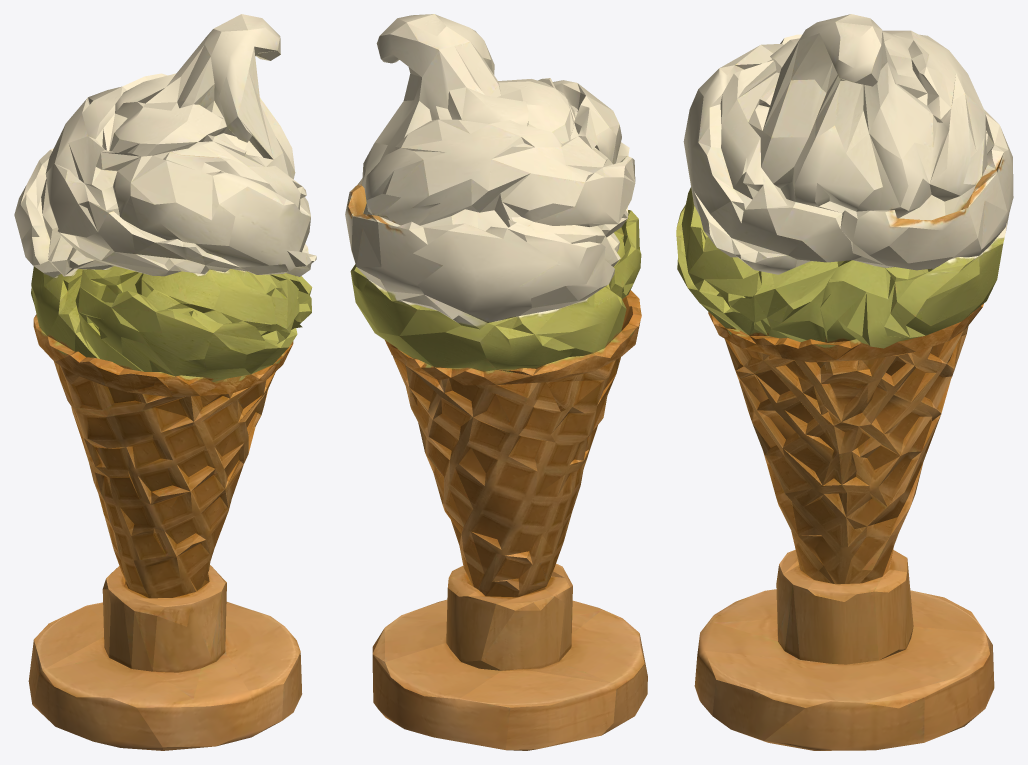
The model's file is dondurma.glb.
The picture shows the model from 3 angles, left to right: view 1: azimuth 30°, elevation 25°; view 2: azimuth 150°, elevation 25°; view 3: azimuth 270°, elevation 25°; orthographic projection. The views are drawn at different scales.
Parts seen in each view (by area): view 1: output_unwrapped; view 2: output_unwrapped; view 3: output_unwrapped.
Boxes of the visible parts, box(x1,y1,x2,y2) form: output_unwrapped: box(14, 14, 316, 750); output_unwrapped: box(345, 14, 647, 750); output_unwrapped: box(676, 14, 1013, 750).
Bounding box in the file's own units: 0.7542 × 1.89 × 0.8105.
1 material, 1 textured.
